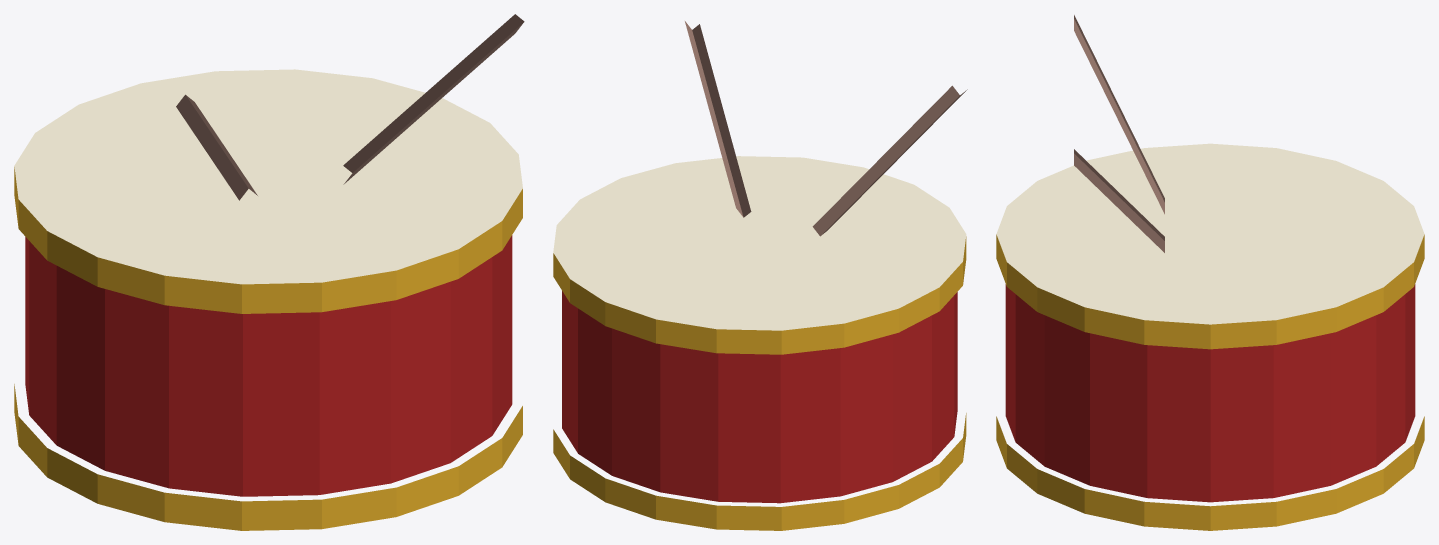
The model's file is trumma.glb.
The picture shows the model from 3 angles, left to right: view 1: azimuth 30°, elevation 25°; view 2: azimuth 150°, elevation 25°; view 3: azimuth 270°, elevation 25°; orthographic projection. The views are drawn at different scales.
Visible parts, largest first — view 1: trumma; view 2: trumma; view 3: trumma.
Boxes of the visible parts, <box> form: trumma: <box>14,14,524,530</box>; trumma: <box>553,21,967,530</box>; trumma: <box>996,15,1424,530</box>.
Bounding box in the file's own units: 0.94 × 0.87 × 0.94.
